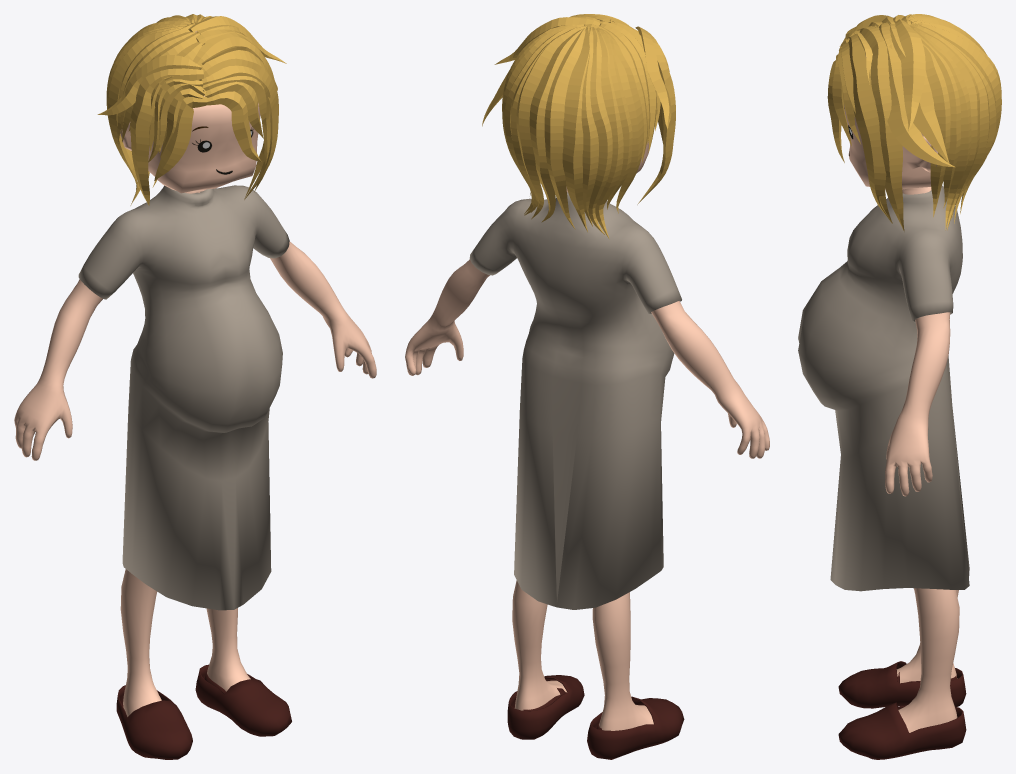
Rendered from pregnant.fbx.
3 views of the same model, side by side, from view 1: azimuth 30°, elevation 25°; view 2: azimuth 150°, elevation 25°; view 3: azimuth 270°, elevation 25° (orthographic).
Visible parts, largest first — view 1: body 1; view 2: body 1; view 3: body 1.
Part boxes in pixels (x1,y1,x2,y2): body 1: (14, 14, 376, 759); body 1: (405, 14, 769, 759); body 1: (798, 14, 1001, 759).
Bounding box in the file's own units: 159 × 309 × 80.9.
